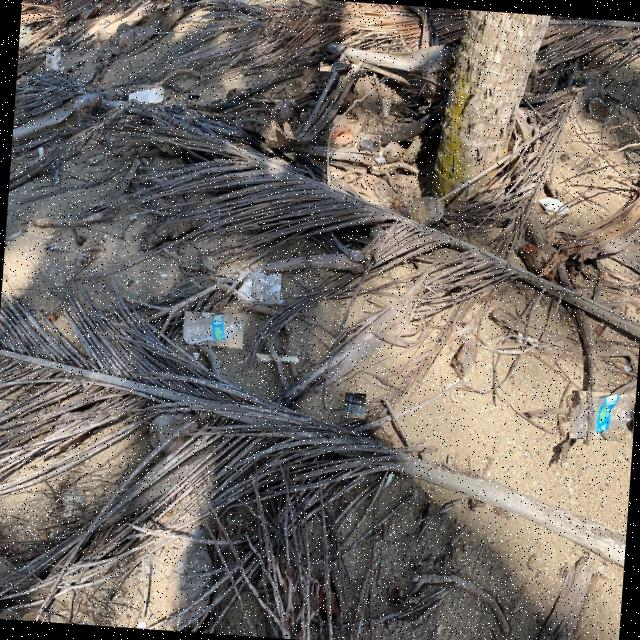Clear plastic bottle: (570, 393, 634, 438), (183, 314, 243, 344), (251, 271, 280, 302)
Disposable plastic cup: (238, 272, 264, 301), (360, 135, 380, 152)
Plastic utensils: (257, 353, 297, 362)
Unlabeled litter: (344, 392, 365, 418), (129, 86, 163, 102), (538, 198, 567, 216), (46, 48, 59, 70), (324, 64, 351, 71)
